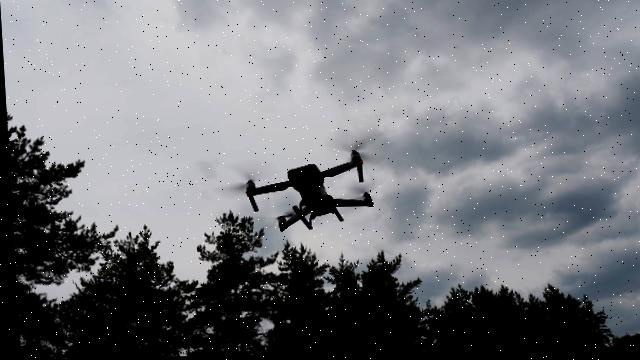drone: (208, 139, 408, 230)
